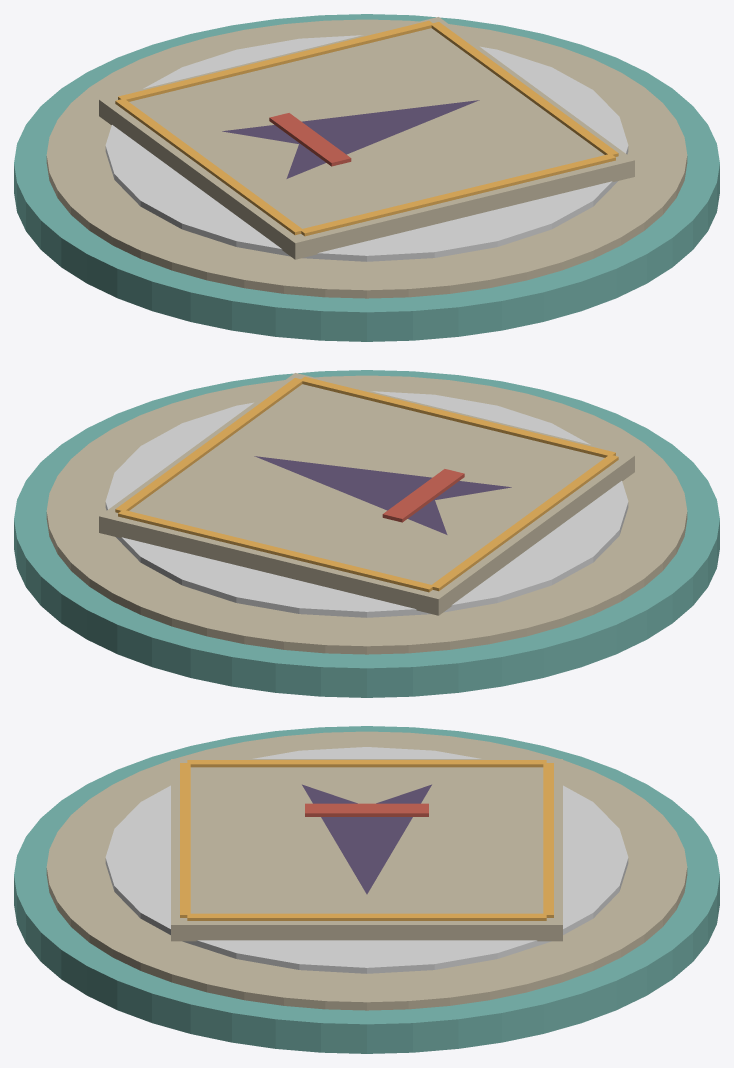
Rendered from space_marker_corsair_advance.glb.
The picture shows the model from 3 angles, top to bottom: view 1: azimuth 30°, elevation 25°; view 2: azimuth 150°, elevation 25°; view 3: azimuth 270°, elevation 25°; orthographic projection.
Parts seen in each view (by area): view 1: FixedDetails, WoodBody, BrassTrim; view 2: FixedDetails, WoodBody, BrassTrim; view 3: FixedDetails, WoodBody, BrassTrim.
Boxes of the visible parts, x1,y1,x2,y2 form: FixedDetails: [14, 14, 719, 341]; WoodBody: [105, 35, 628, 261]; BrassTrim: [115, 20, 618, 236]; FixedDetails: [14, 370, 719, 697]; WoodBody: [105, 391, 628, 617]; BrassTrim: [115, 376, 618, 592]; FixedDetails: [14, 726, 719, 1053]; WoodBody: [105, 747, 628, 973]; BrassTrim: [180, 760, 553, 920].
Bounding box in the file's own units: 0.54 × 0.058 × 0.54.
